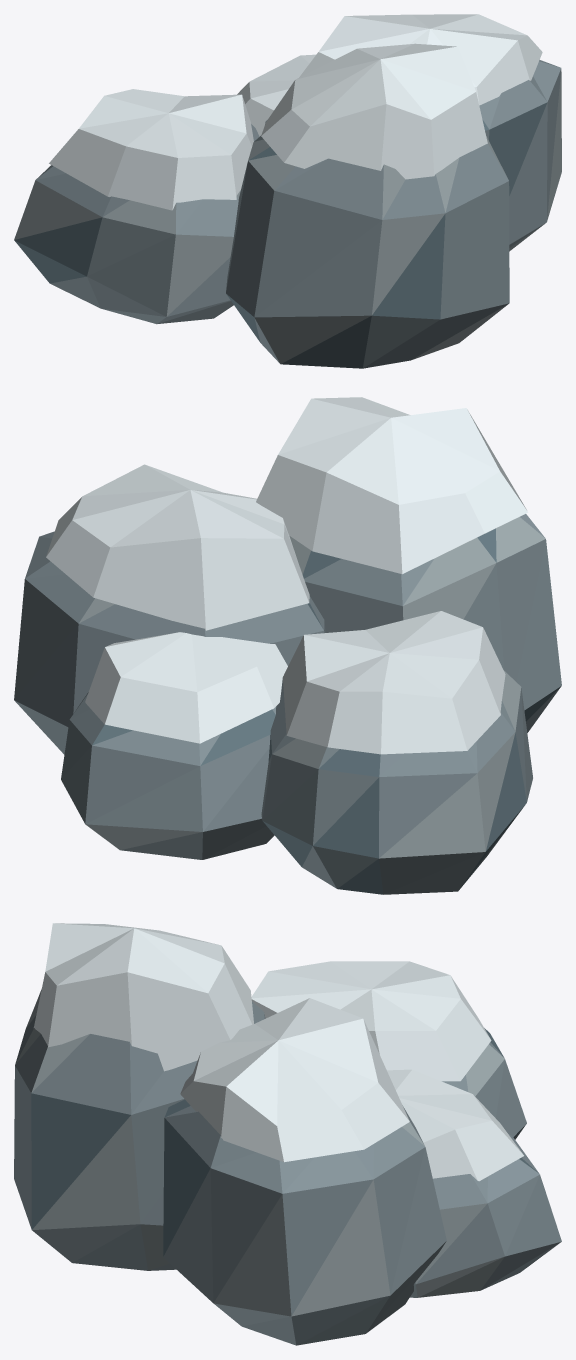
The model's file is ROCK_08_ClusterLarge.glb.
The picture shows the model from 3 angles, top to bottom: view 1: azimuth 30°, elevation 25°; view 2: azimuth 150°, elevation 25°; view 3: azimuth 270°, elevation 25°; orthographic projection. The views are drawn at different scales.
Visible parts, largest first — view 1: ROCK_08_ClusterLarge; view 2: ROCK_08_ClusterLarge; view 3: ROCK_08_ClusterLarge.
Part boxes in pixels (<box>): ROCK_08_ClusterLarge: <box>14,14,561,368</box>; ROCK_08_ClusterLarge: <box>14,397,561,894</box>; ROCK_08_ClusterLarge: <box>14,923,561,1345</box>.
Bounding box in the file's own units: 3.86 × 2.13 × 3.44.
